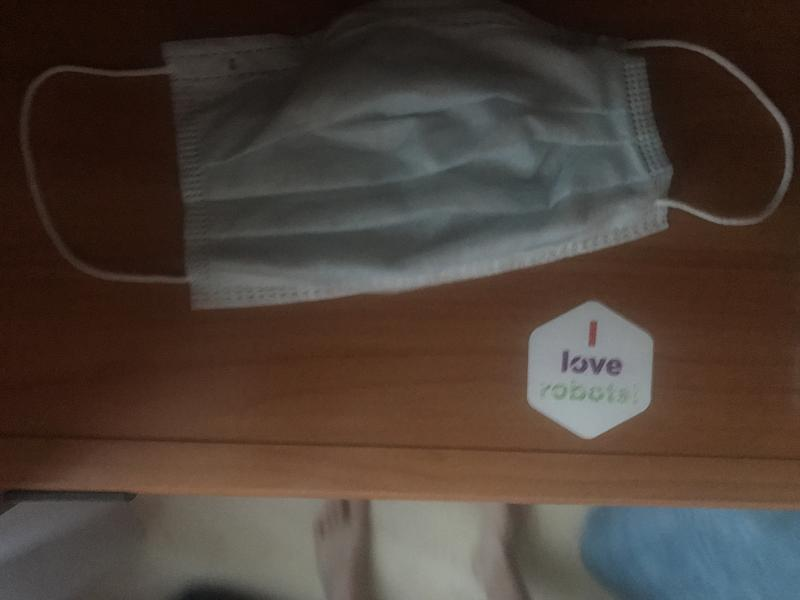medical_mask: (20, 9, 793, 307)
